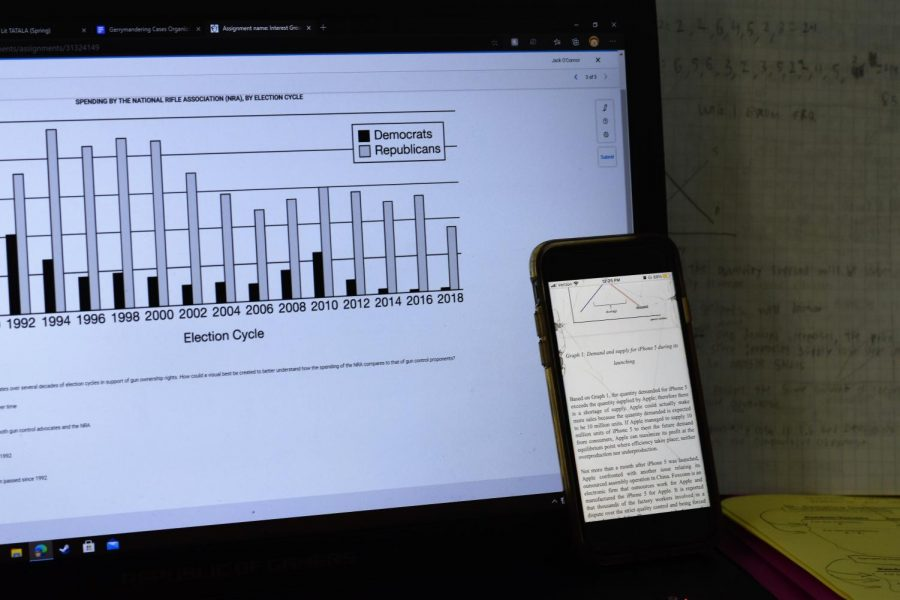Cell Phone: (530, 234, 727, 548)
